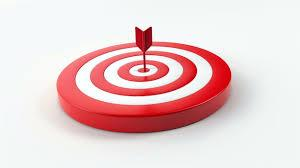target_red: (56, 25, 232, 133)
